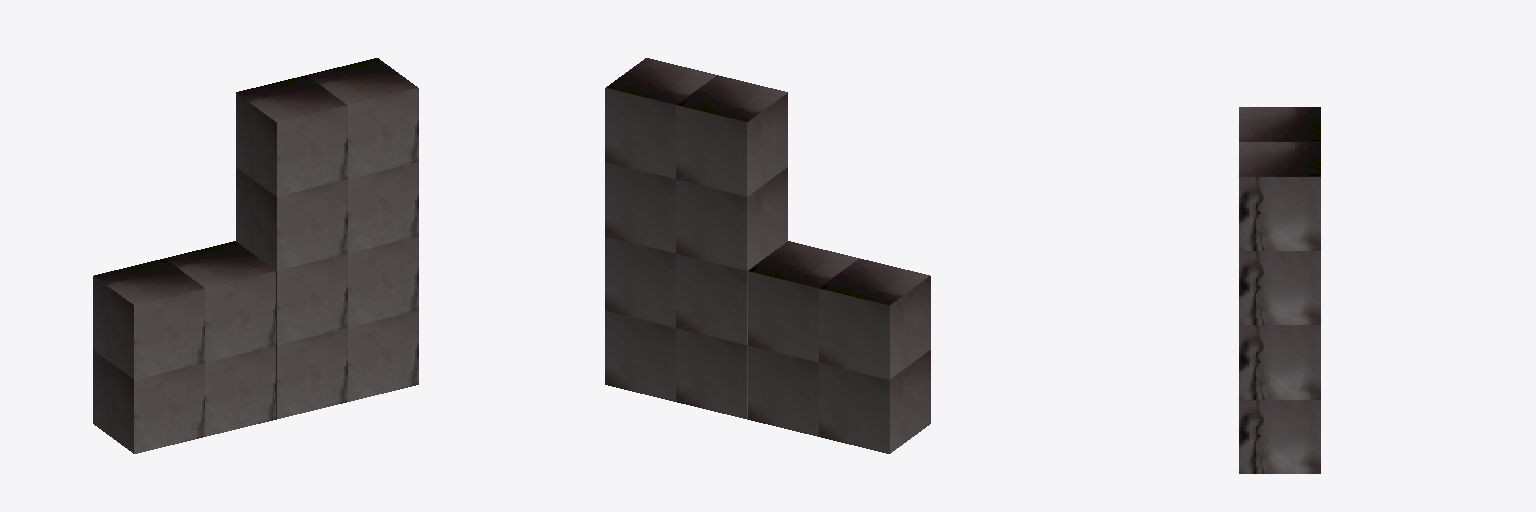
3 views of the same model, side by side, from view 1: azimuth 30°, elevation 25°; view 2: azimuth 150°, elevation 25°; view 3: azimuth 270°, elevation 25° (orthographic).
Visible parts, largest first — view 1: 0111_0011; view 2: 0111_0011; view 3: 0111_0011.
Part boxes in pixels (left/top/right/bottom): 0111_0011: left=93, top=58, right=418, bottom=453; 0111_0011: left=605, top=58, right=930, bottom=453; 0111_0011: left=1239, top=107, right=1320, bottom=473.
Bounding box in the file's own units: 1 × 0.9998 × 0.25.
2 materials, 1 textured.